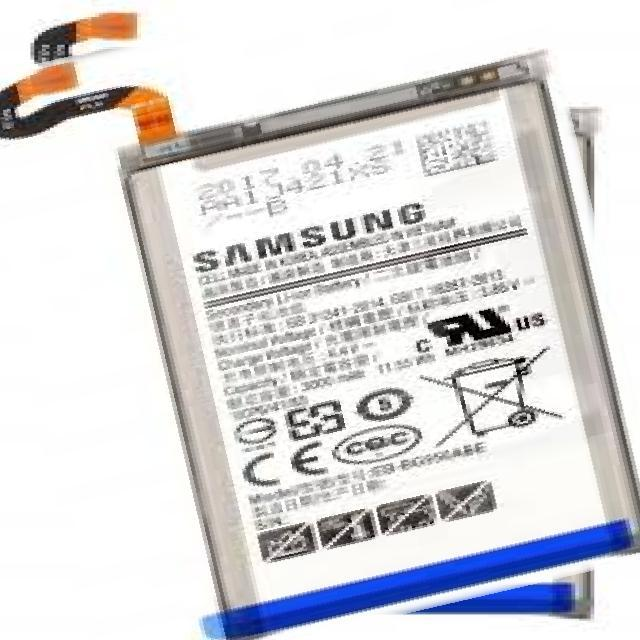Battery: (2, 0, 640, 640)
